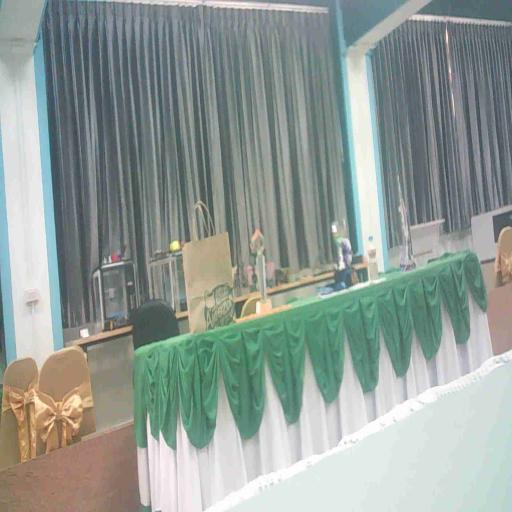bag: (180, 228, 241, 340)
